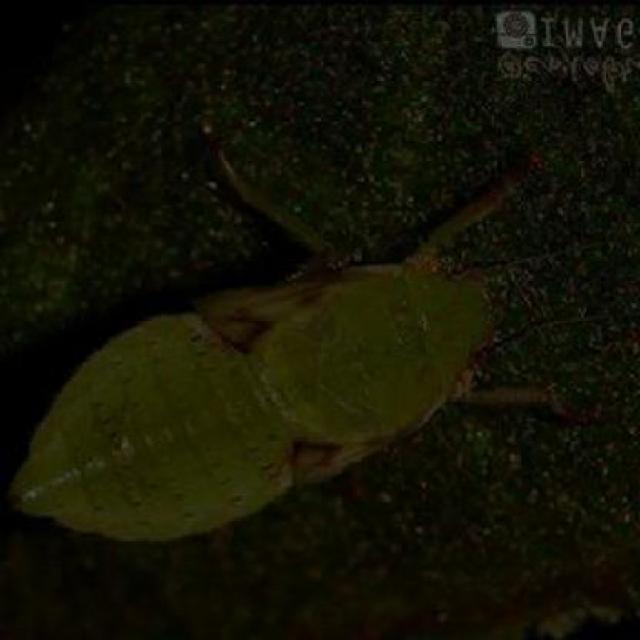green-leafhopper: (26, 238, 502, 542)
